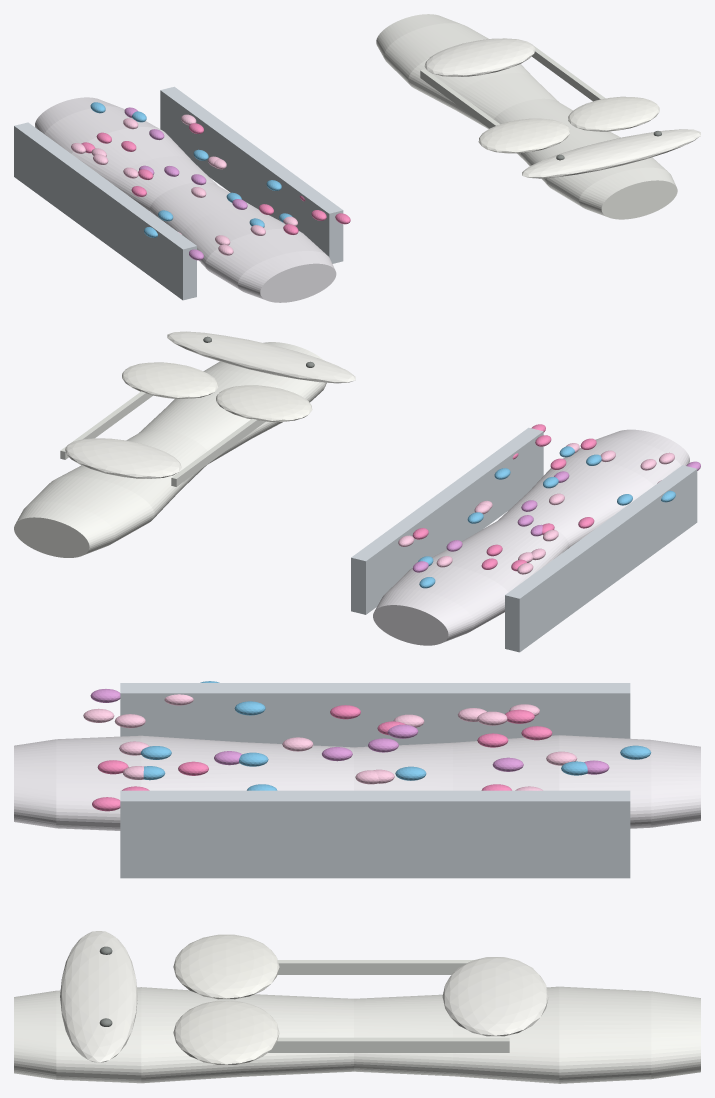
The model's file is corsets.glb.
3 renders of one model, top to bottom at view 1: azimuth 30°, elevation 25°; view 2: azimuth 150°, elevation 25°; view 3: azimuth 270°, elevation 25°, orthographic. The views are drawn at different scales.
Visible parts, largest first — view 1: Corset_component_0, Corset_component_45, Corset_component_43, Corset_component_44, Corset_component_48, Corset_component_49, Corset_component_46, Corset_component_47, Corset_component_52, Corset_component_53; view 2: Corset_component_0, Corset_component_45, Corset_component_43, Corset_component_44, Corset_component_48, Corset_component_49, Corset_component_47, Corset_component_46, Corset_component_52, Corset_component_53; view 3: Corset_component_44, Corset_component_45, Corset_component_0, Corset_component_43, Corset_component_48, Corset_component_49, Corset_component_46, Corset_component_47, Corset_component_53, Corset_component_52.
Boxes of the visible parts, box(x1,y1,x2,y2) form: Corset_component_0: box(35, 97, 336, 302); Corset_component_45: box(376, 14, 677, 219); Corset_component_43: box(14, 122, 196, 300); Corset_component_44: box(160, 86, 343, 263); Corset_component_48: box(522, 129, 700, 178); Corset_component_49: box(424, 38, 535, 76); Corset_component_46: box(478, 118, 570, 153); Corset_component_47: box(568, 96, 659, 131); Corset_component_52: box(420, 69, 499, 128); Corset_component_53: box(531, 45, 605, 101); Corset_component_0: box(373, 429, 689, 645); Corset_component_45: box(14, 342, 326, 557); Corset_component_43: box(505, 465, 697, 652); Corset_component_44: box(351, 427, 543, 614); Corset_component_48: box(167, 331, 355, 383); Corset_component_49: box(65, 438, 181, 478); Corset_component_47: box(122, 362, 218, 398); Corset_component_46: box(216, 385, 312, 421); Corset_component_52: box(171, 419, 265, 486); Corset_component_53: box(60, 391, 152, 459); Corset_component_44: box(120, 790, 630, 878); Corset_component_45: box(14, 986, 700, 1083); Corset_component_0: box(14, 735, 700, 830); Corset_component_43: box(120, 683, 630, 747); Corset_component_48: box(60, 931, 137, 1062); Corset_component_49: box(442, 957, 548, 1036); Corset_component_46: box(173, 934, 279, 999); Corset_component_47: box(173, 1000, 279, 1064); Corset_component_53: box(268, 1037, 509, 1052); Corset_component_52: box(277, 960, 473, 974).
Size of the model in its own units: 1.28 by 0.136 by 0.97.
